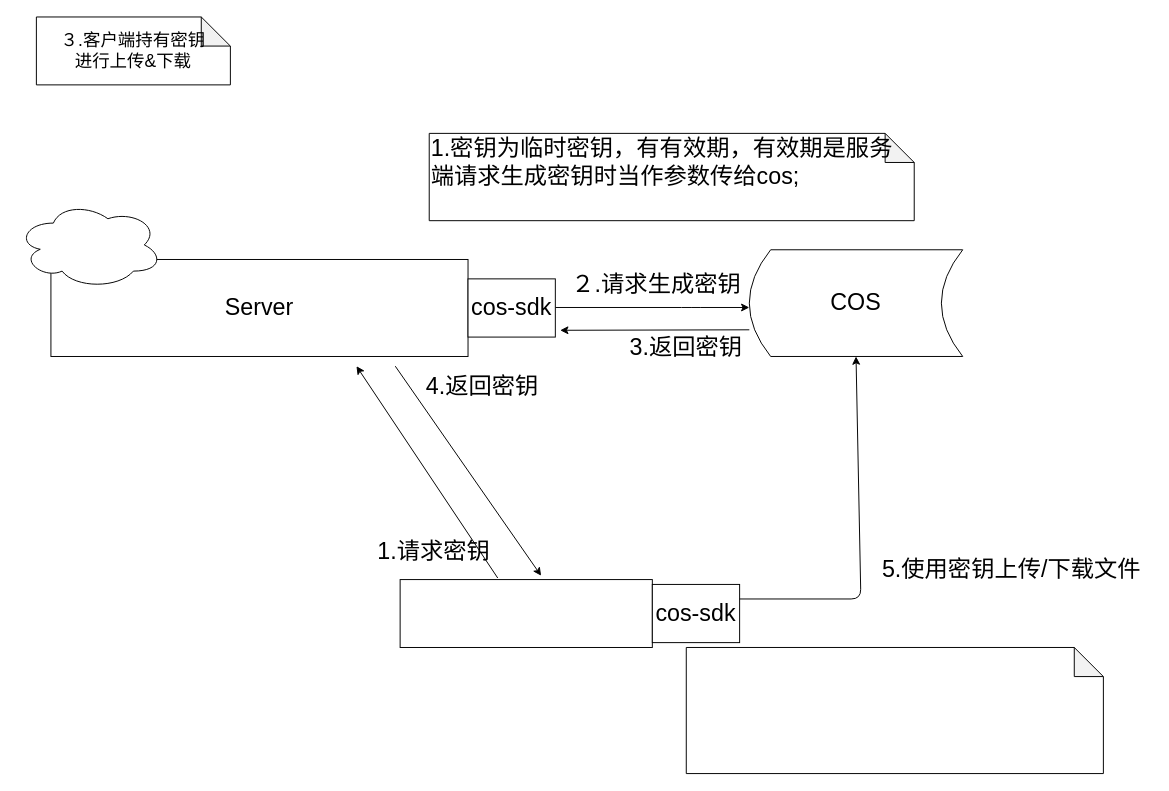
This 1169x791 diagram has some shape labels left out. Here are the shapes that lost their labels. From the top down, the centre of each, then its label:
point 89,244: secretId
point 525,613: Client
point 894,710: 2.可以给密钥设置操作权限和操作范围，比如只对"Users/abc/"下的文件有"上传&下载"的权限(没有删除等权限；也无法进入其他文件夹)。
